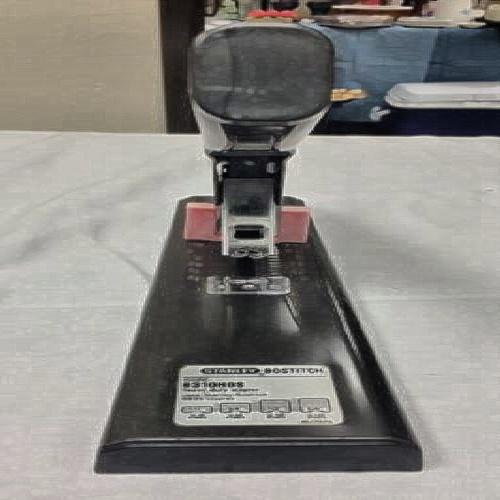stapler: (113, 26, 403, 469)
